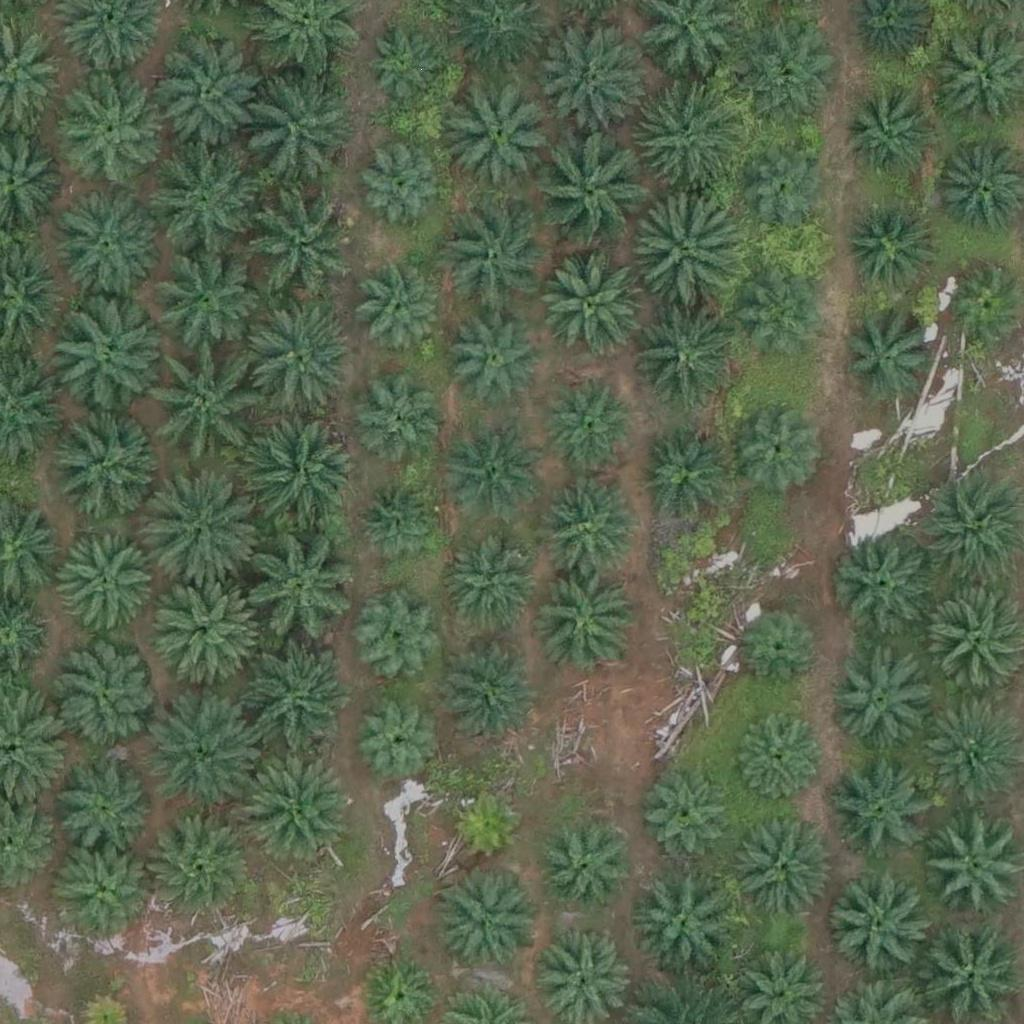Kelapa_Sawit: (149, 478, 262, 592), (625, 864, 738, 977), (247, 300, 360, 413), (243, 419, 356, 532), (236, 535, 349, 648), (43, 304, 156, 417), (627, 83, 740, 196), (148, 37, 261, 150), (235, 650, 347, 764), (239, 754, 351, 868), (141, 811, 253, 925), (544, 249, 656, 363), (630, 310, 742, 423), (149, 700, 261, 813), (149, 573, 261, 686), (156, 348, 268, 461), (41, 409, 153, 522), (634, 196, 746, 309), (535, 128, 647, 241), (531, 19, 643, 132), (445, 79, 557, 192), (434, 200, 546, 313), (240, 71, 352, 184), (245, 181, 357, 294), (147, 236, 259, 349), (146, 145, 258, 258), (53, 192, 165, 305), (833, 757, 933, 858), (539, 481, 639, 582), (535, 573, 635, 674), (536, 813, 636, 914), (440, 529, 540, 630), (441, 638, 541, 739), (434, 875, 534, 976), (55, 535, 155, 636), (55, 647, 155, 748), (57, 756, 157, 857), (840, 308, 940, 409), (734, 28, 834, 129), (61, 87, 161, 188), (923, 703, 1023, 803), (835, 535, 935, 635), (825, 659, 925, 759), (826, 872, 926, 972), (735, 816, 835, 916), (447, 303, 547, 403), (442, 432, 542, 532), (57, 842, 157, 942), (734, 707, 822, 796), (444, 779, 532, 867), (733, 410, 821, 498), (640, 770, 728, 858), (545, 377, 633, 465), (353, 695, 441, 783), (357, 587, 445, 675), (846, 209, 934, 297), (736, 605, 823, 693), (641, 433, 728, 521), (355, 479, 442, 567), (355, 374, 442, 462), (841, 89, 928, 177), (742, 144, 829, 232), (738, 260, 825, 348), (358, 262, 445, 350), (358, 138, 445, 226), (367, 28, 442, 104)
